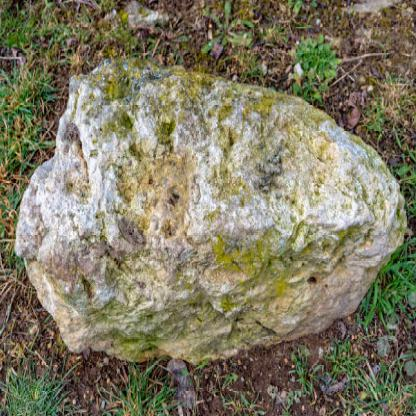Sedimentary_Limestone: (13, 60, 411, 358)
